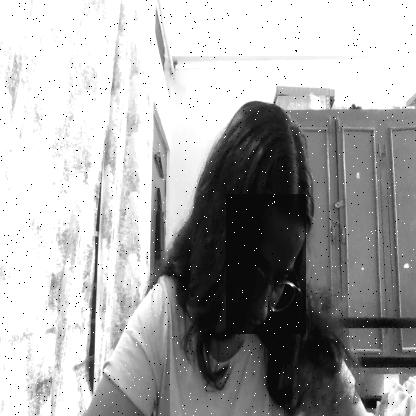Distracted: (226, 194, 306, 334)
